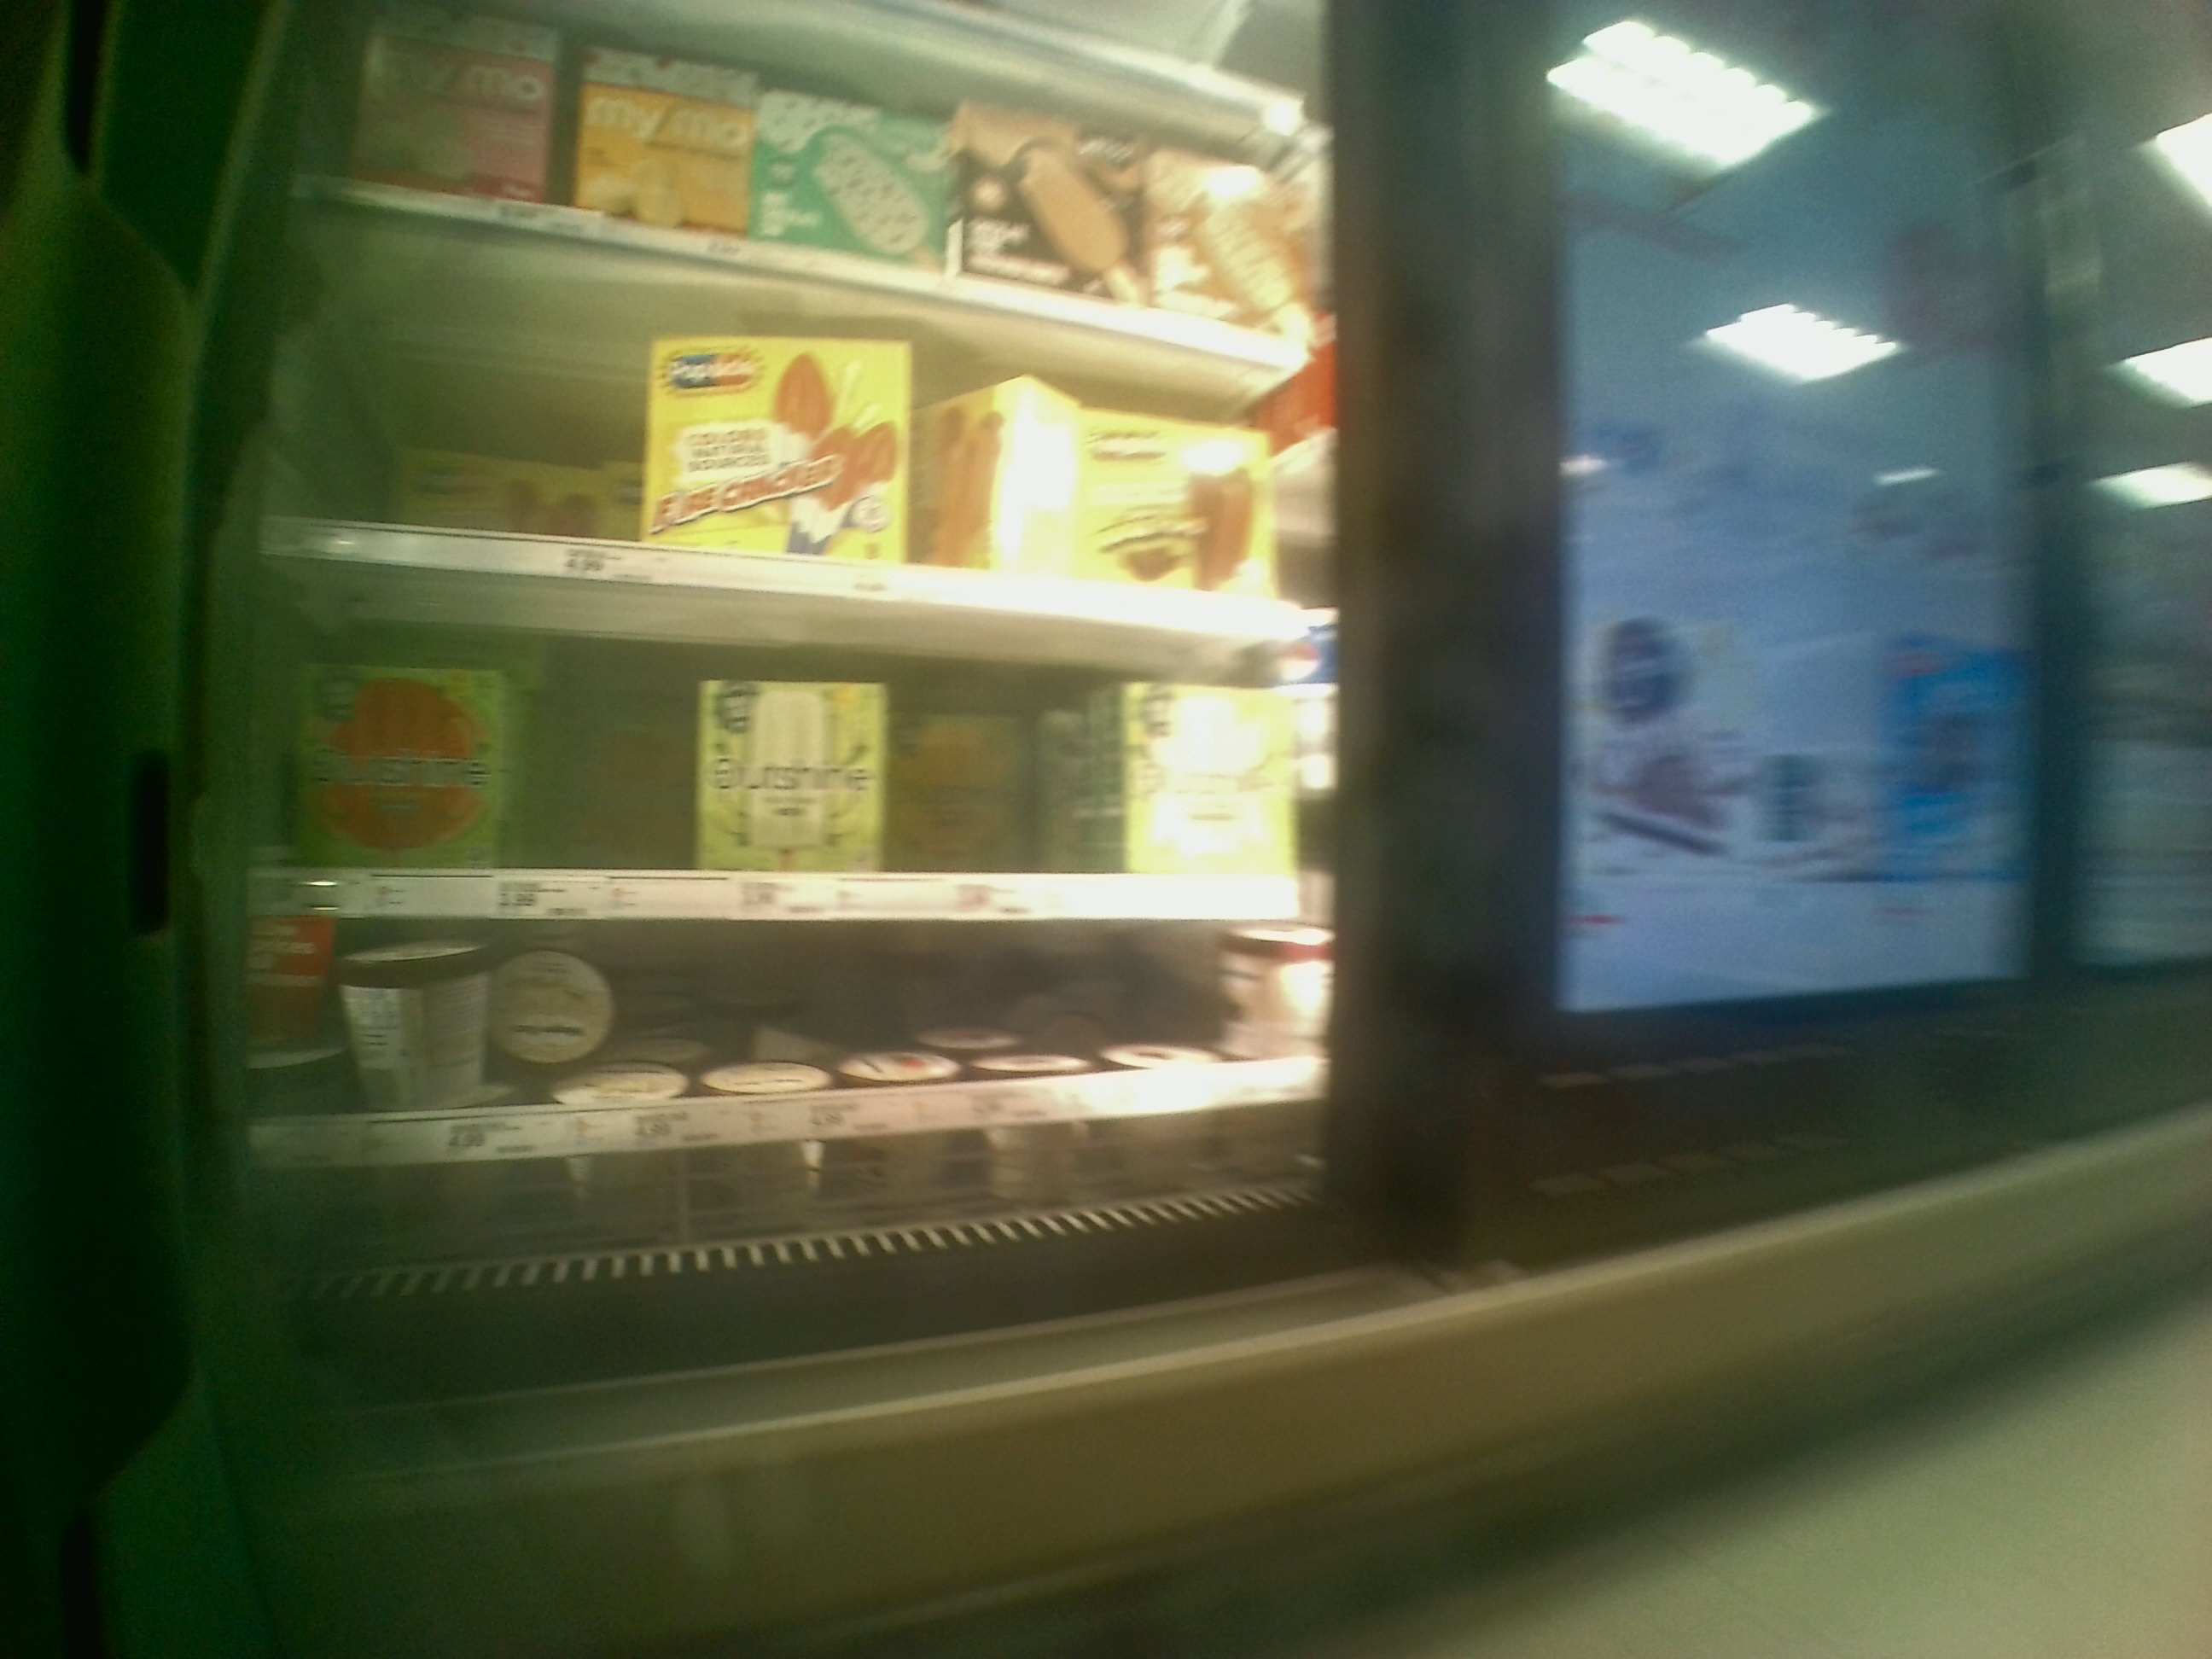ice-cream-shelf: (263, 558, 1343, 910), (233, 917, 1331, 1185)
